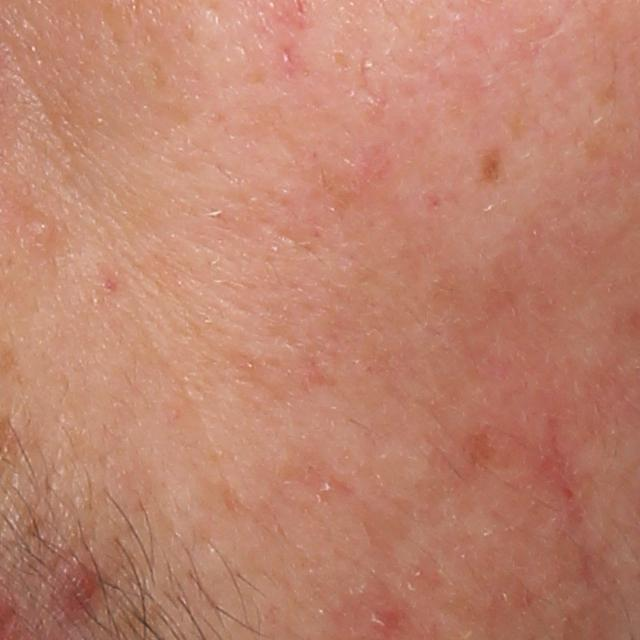melasma: (477, 139, 508, 189)
